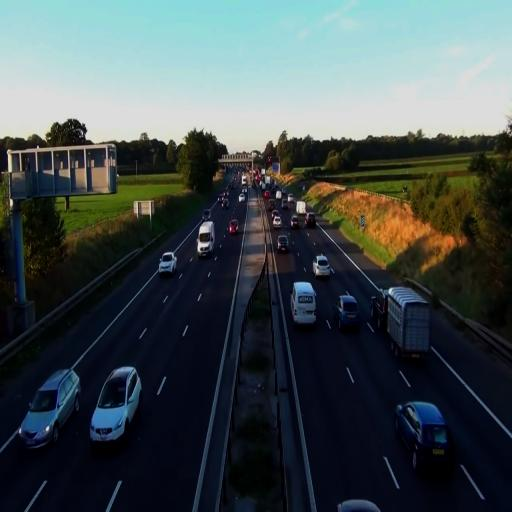vehicle: (18, 366, 81, 451), (89, 365, 142, 453), (395, 400, 453, 473), (385, 286, 431, 362), (290, 280, 318, 328), (333, 293, 361, 331), (370, 288, 390, 330), (196, 220, 216, 256), (312, 253, 332, 280), (158, 252, 176, 276), (276, 232, 290, 254), (228, 217, 239, 235)
